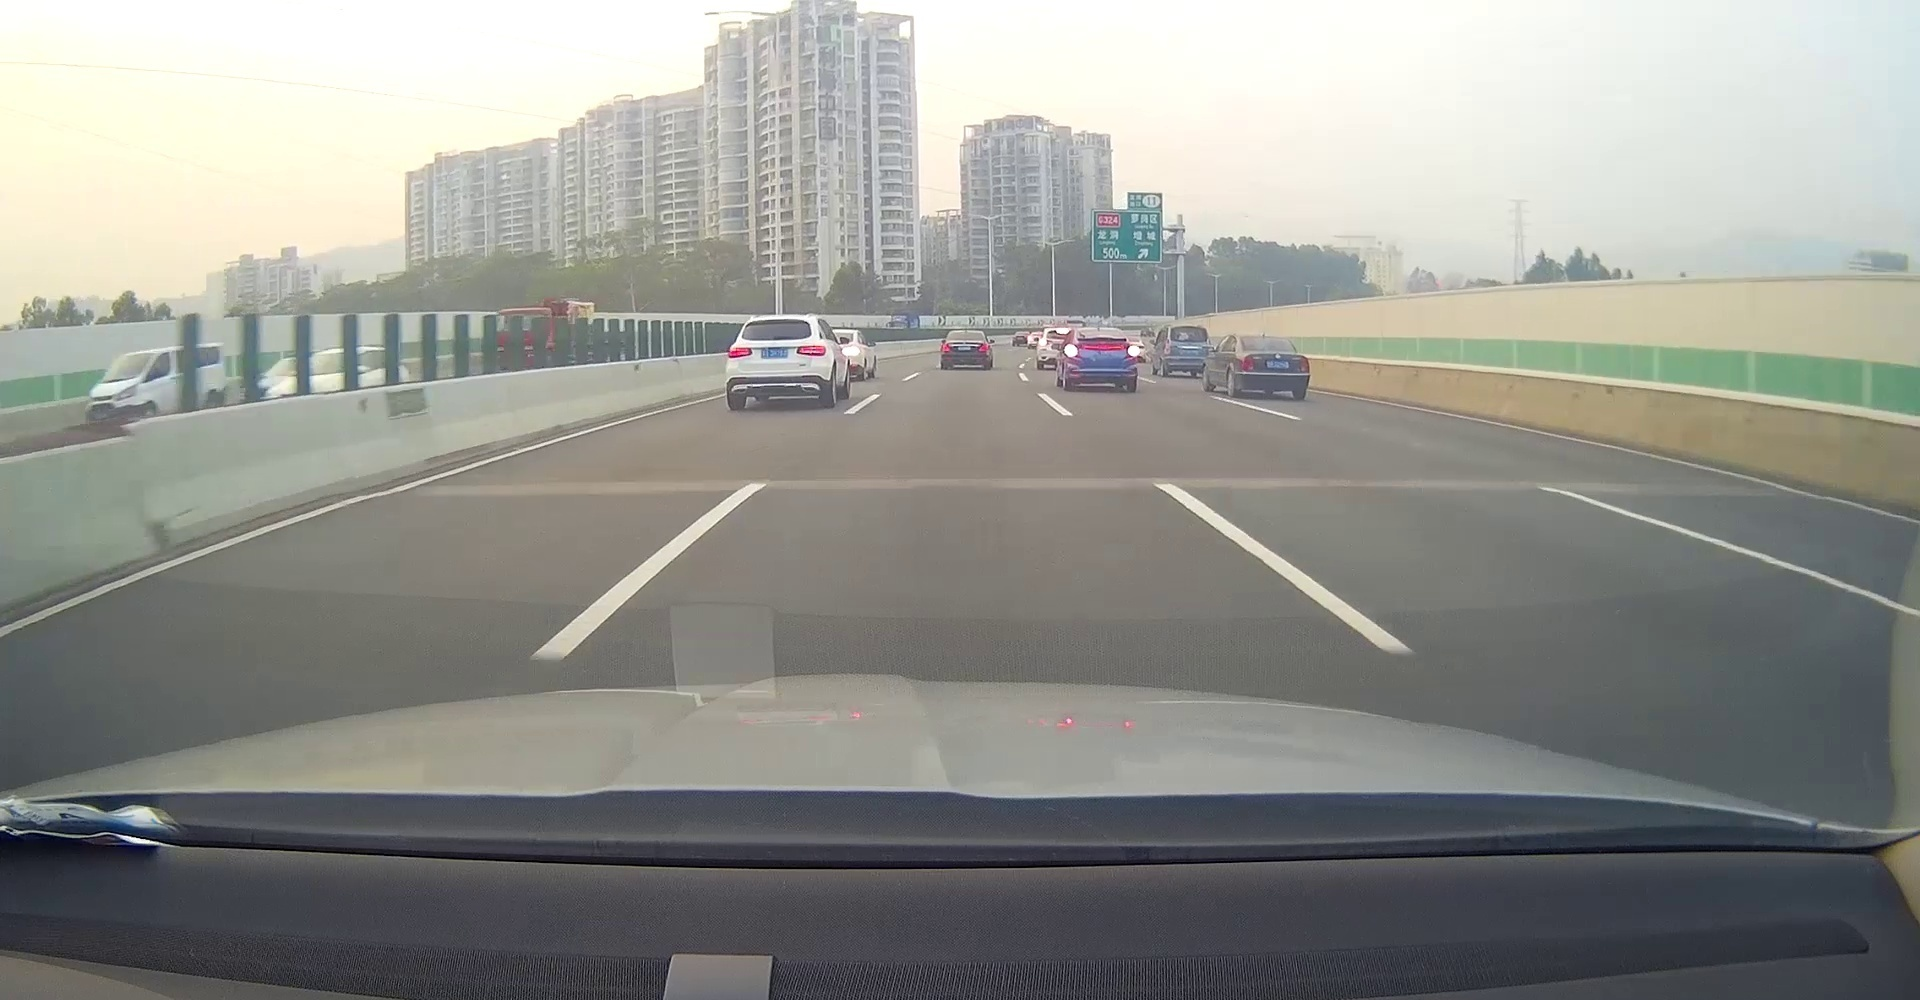L_light: (728, 346, 752, 358), (1239, 355, 1255, 371), (1065, 346, 1079, 358), (942, 344, 950, 352)
R_light: (796, 345, 825, 357), (1124, 346, 1137, 358), (1299, 357, 1308, 372), (978, 343, 988, 352)
T_light: (770, 320, 783, 324), (1260, 338, 1272, 341), (1096, 330, 1106, 332), (963, 332, 971, 334)
day-no: (726, 316, 828, 409), (1237, 334, 1309, 398), (1065, 327, 1137, 392), (941, 331, 989, 371)
